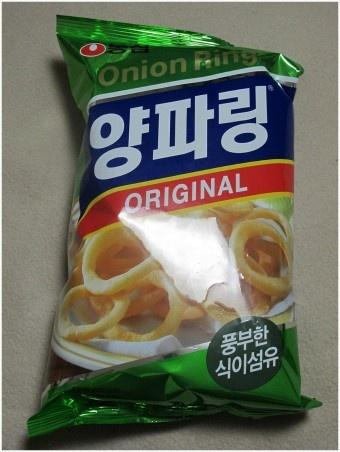snack: (26, 13, 324, 437)
